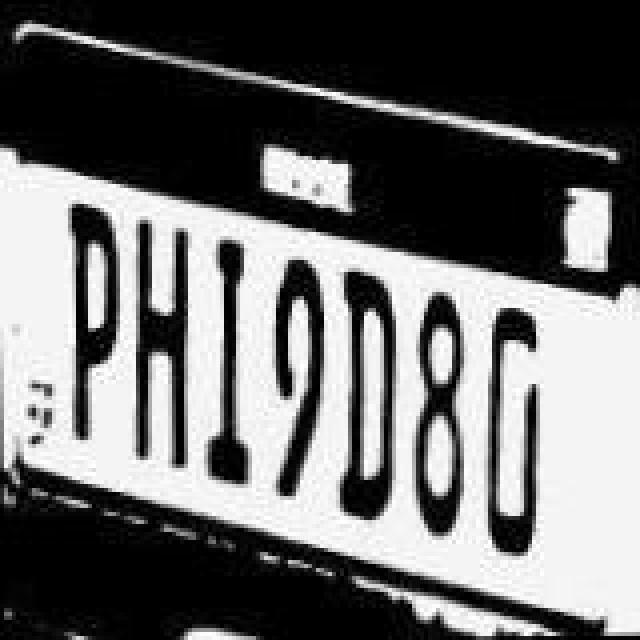8: (404, 290, 480, 554)
9: (266, 240, 338, 520)
D: (332, 252, 416, 532), (476, 286, 552, 554)
H: (126, 212, 210, 496)
I: (202, 234, 278, 522)
P: (64, 194, 128, 454)
